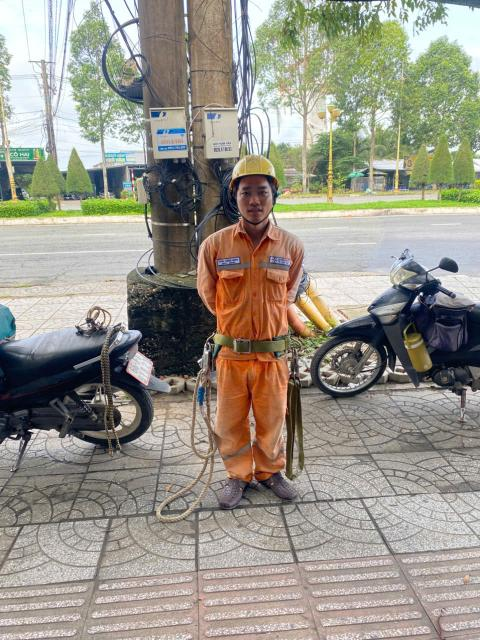harness: (213, 323, 301, 362)
helmet: (223, 150, 283, 190)
shoes: (258, 465, 307, 505), (211, 469, 250, 512)
